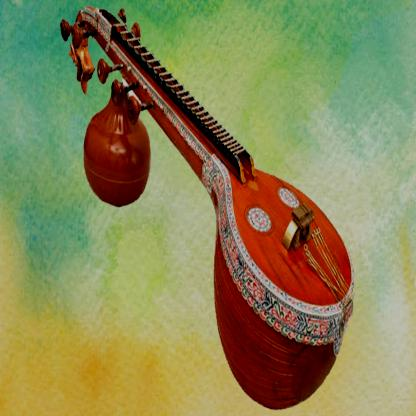Veena: (131, 52, 358, 404)
